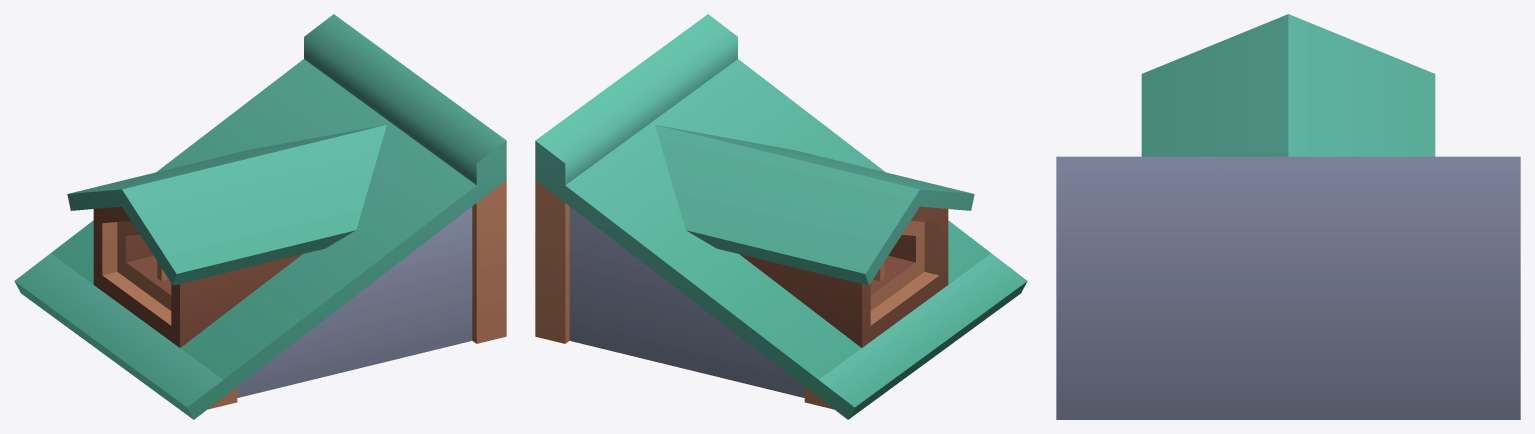
The model's file is roof-window.glb.
3 renders of one model, left to right at view 1: azimuth 30°, elevation 25°; view 2: azimuth 150°, elevation 25°; view 3: azimuth 270°, elevation 25°, orthographic. The views are drawn at different scales.
Visible parts, largest first — view 1: roof-window; view 2: roof-window; view 3: roof-window.
Part boxes in pixels (x1,y1,x2,y2): roof-window: (14, 14, 506, 419); roof-window: (535, 14, 1027, 419); roof-window: (1056, 14, 1520, 419).
Bounding box in the file's own units: 1.07 × 0.6483 × 1.
1 material, 1 textured.
